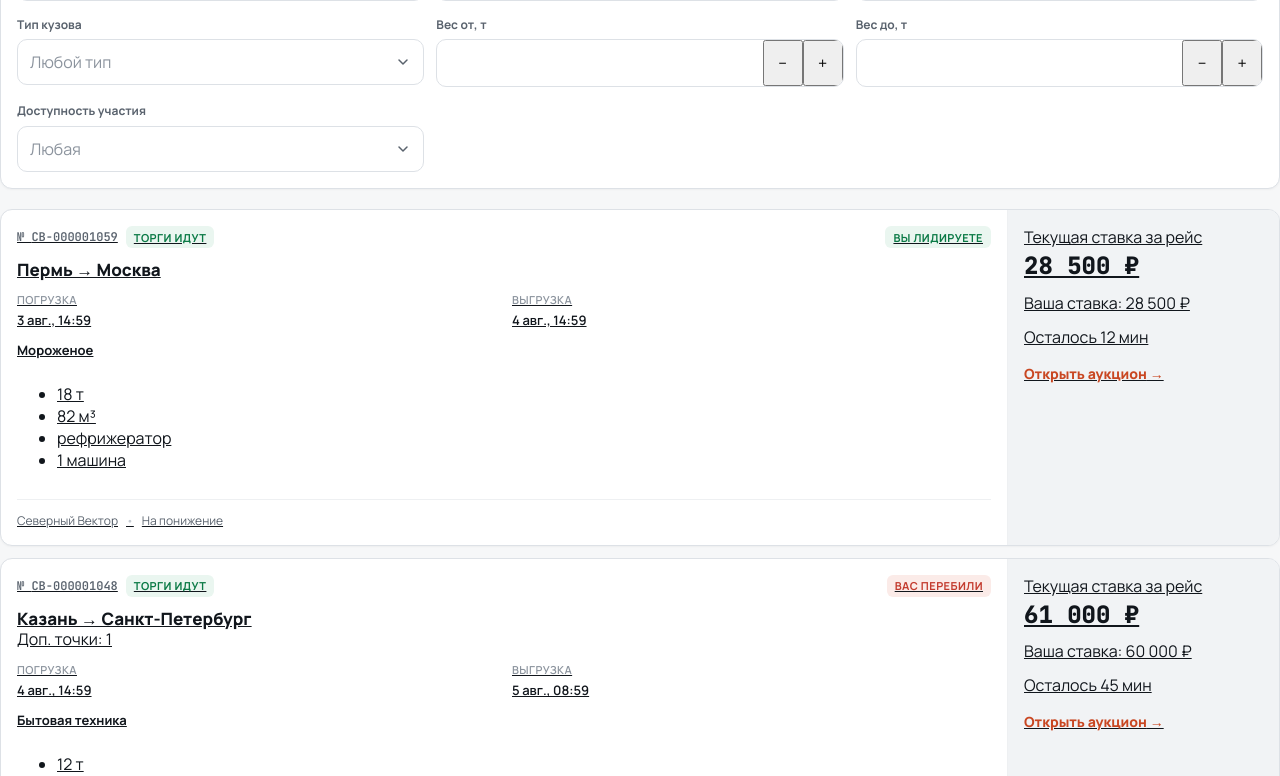
Test: auction list › renders contract data and opens an auction from the card
(page scrolled)
Expected: the text "Вы лидируете" is shown, 885,226 -> 991,248
Expected: the text "28 500 ₽" is shown, 1024,250 -> 1139,281
Click the link with aria-label "Открыть CB-000001059: Пермь → Москва" at (640, 377), box 0,209 -> 1279,546
(page scrolled)
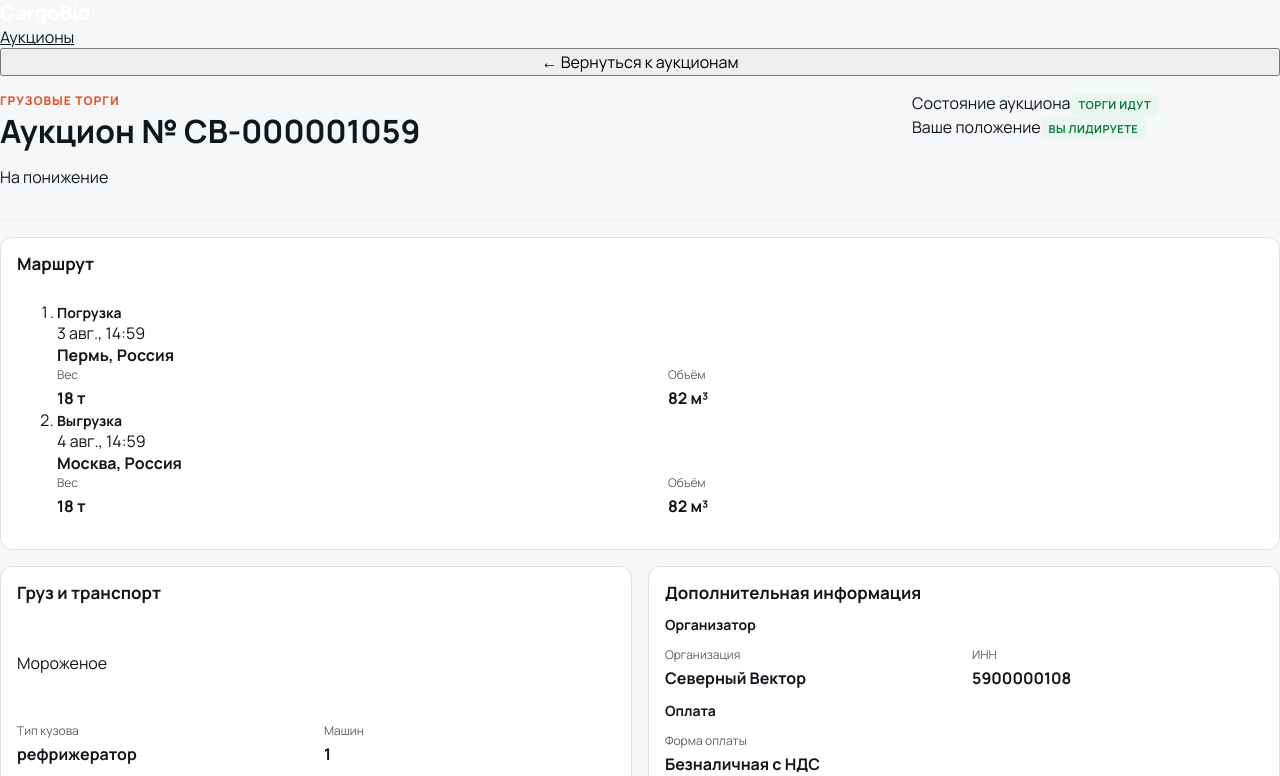
Expected: the heading "Аукцион № CB-000001059" is shown, 0,109 -> 420,153
